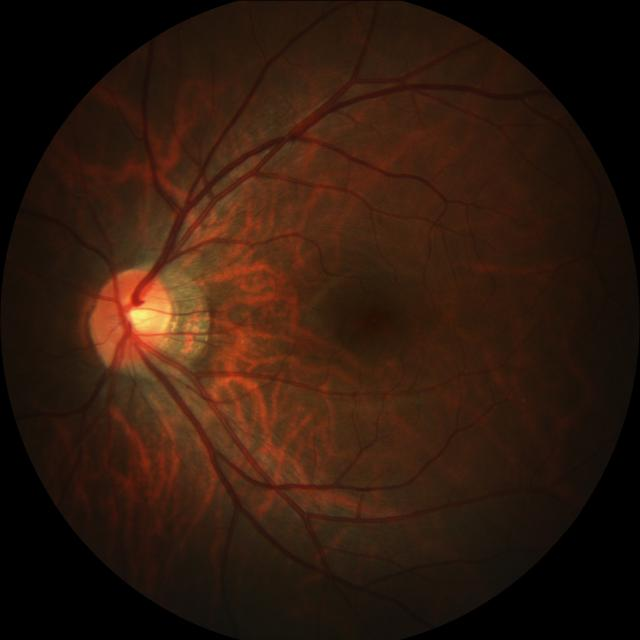OC: (118, 296, 156, 336)
OD: (90, 267, 172, 366)
